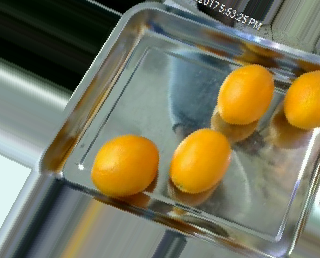Orange: (89, 134, 158, 197), (169, 127, 231, 194), (217, 63, 275, 123)
